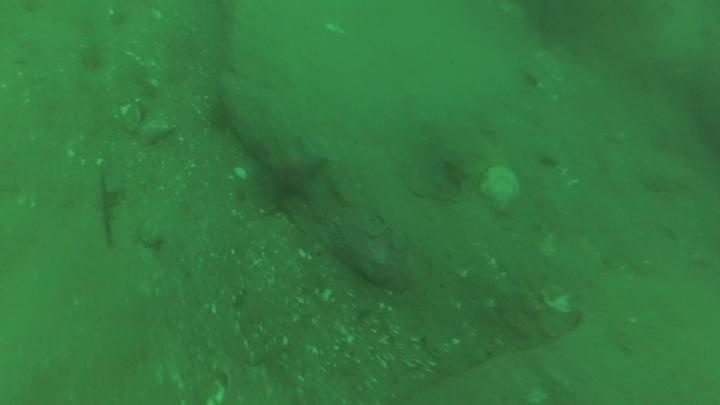scallop: (477, 164, 523, 214)
starfish: (248, 135, 331, 212)
